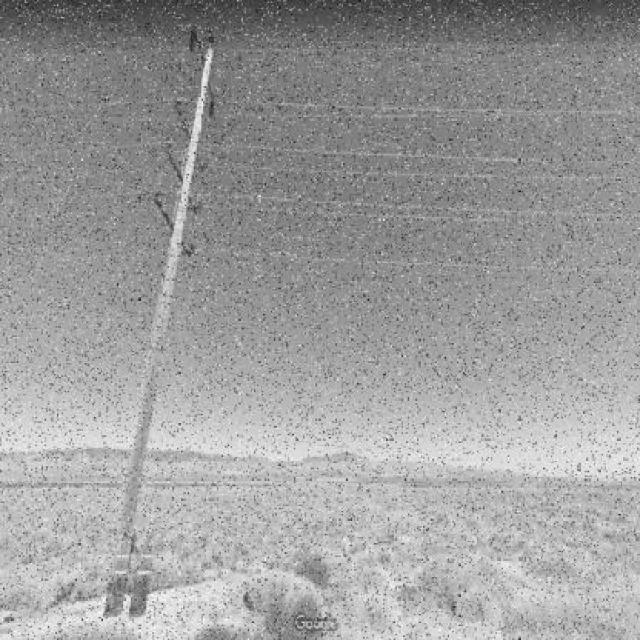pole: (83, 24, 252, 627)
